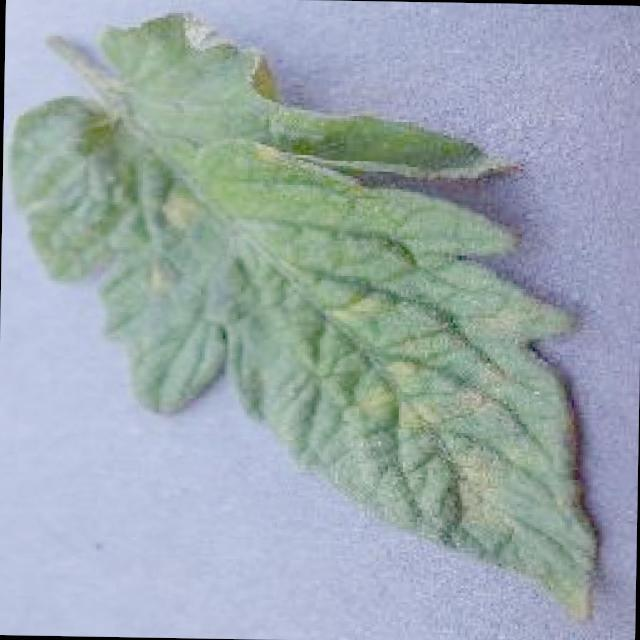Tomato mold leaf: (2, 6, 606, 628)
